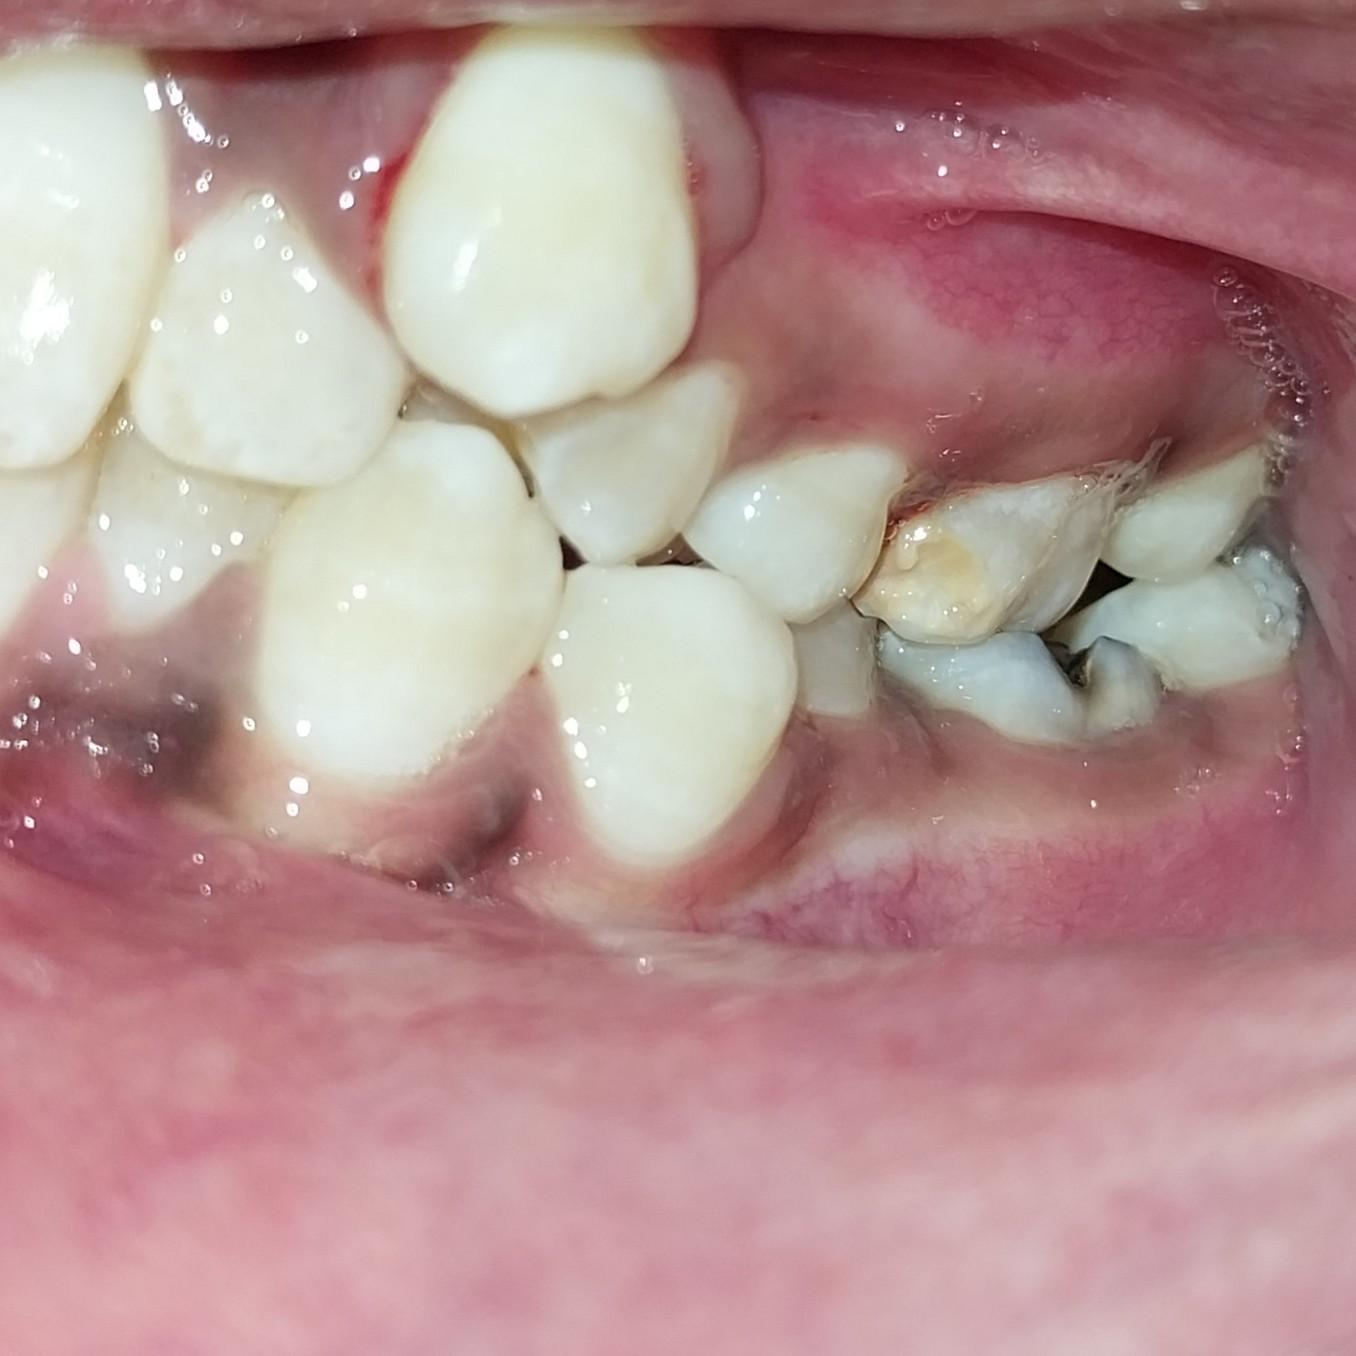D: (875, 596, 1189, 757)
